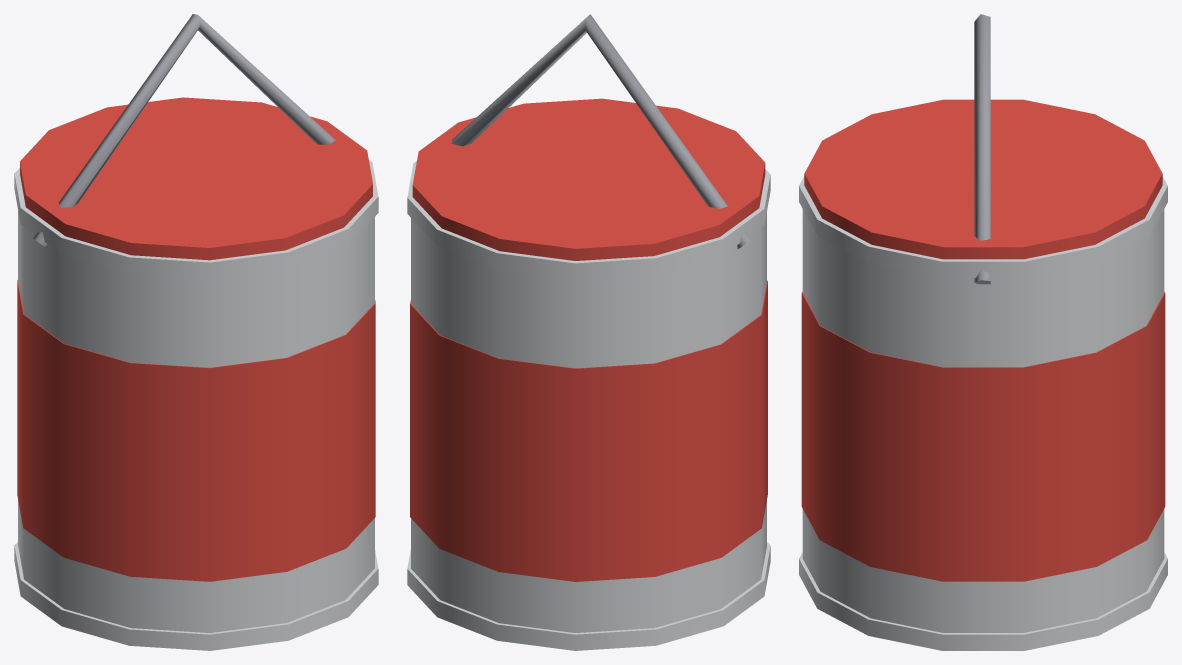
The model's file is paint_can.glb.
The picture shows the model from 3 angles, left to right: view 1: azimuth 30°, elevation 25°; view 2: azimuth 150°, elevation 25°; view 3: azimuth 270°, elevation 25°; orthographic projection.
Parts seen in each view (by area): view 1: paint_can; view 2: paint_can; view 3: paint_can.
Part boxes in pixels (bbox=[...]): paint_can: bbox=[14, 14, 378, 650]; paint_can: bbox=[407, 14, 770, 650]; paint_can: bbox=[799, 14, 1167, 650].
Size of the model in its own units: 0.1657 by 0.2738 by 0.1632.
